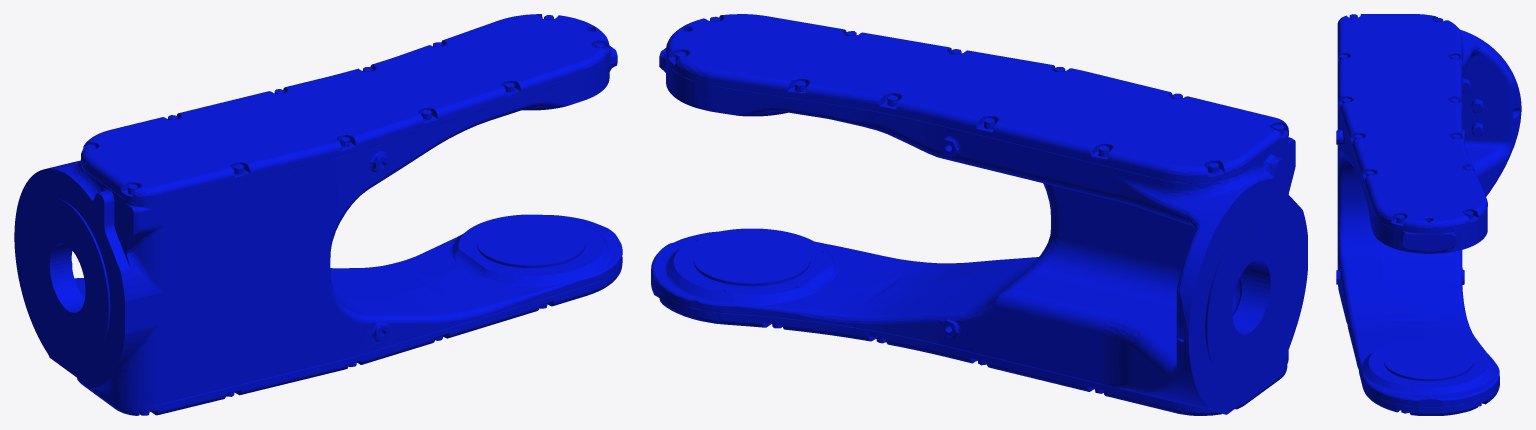
The picture shows the model from 3 angles, left to right: view 1: azimuth 30°, elevation 25°; view 2: azimuth 150°, elevation 25°; view 3: azimuth 270°, elevation 25°; orthographic projection. The views are drawn at different scales.
Visible parts, largest first — view 1: /Gp12_Link_4_R/Gp12_Link_4_R-mesh/0; view 2: /Gp12_Link_4_R/Gp12_Link_4_R-mesh/0; view 3: /Gp12_Link_4_R/Gp12_Link_4_R-mesh/0.
Boxes of the visible parts, left/top/right/bottom form: /Gp12_Link_4_R/Gp12_Link_4_R-mesh/0: left=14, top=14, right=622, bottom=415; /Gp12_Link_4_R/Gp12_Link_4_R-mesh/0: left=651, top=14, right=1307, bottom=415; /Gp12_Link_4_R/Gp12_Link_4_R-mesh/0: left=1336, top=14, right=1521, bottom=415.
Bounding box in the file's own units: 0.44 × 0.1773 × 0.156.
